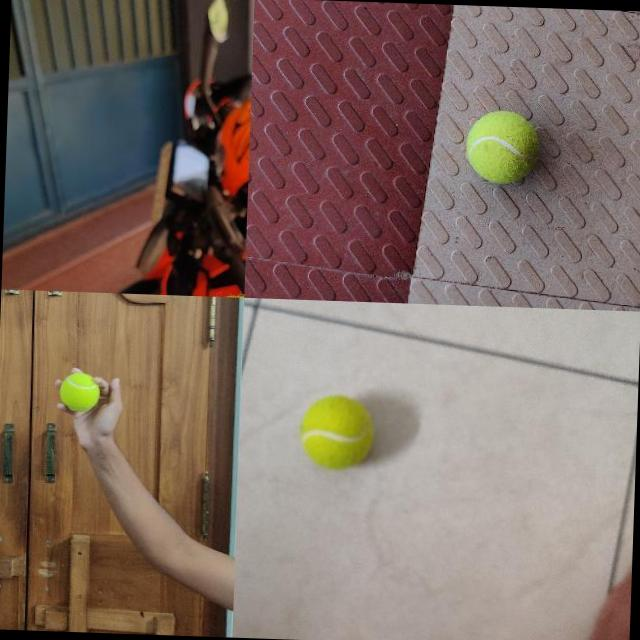Tennis Ball: (464, 109, 540, 185), (299, 394, 374, 469), (59, 371, 101, 412)
